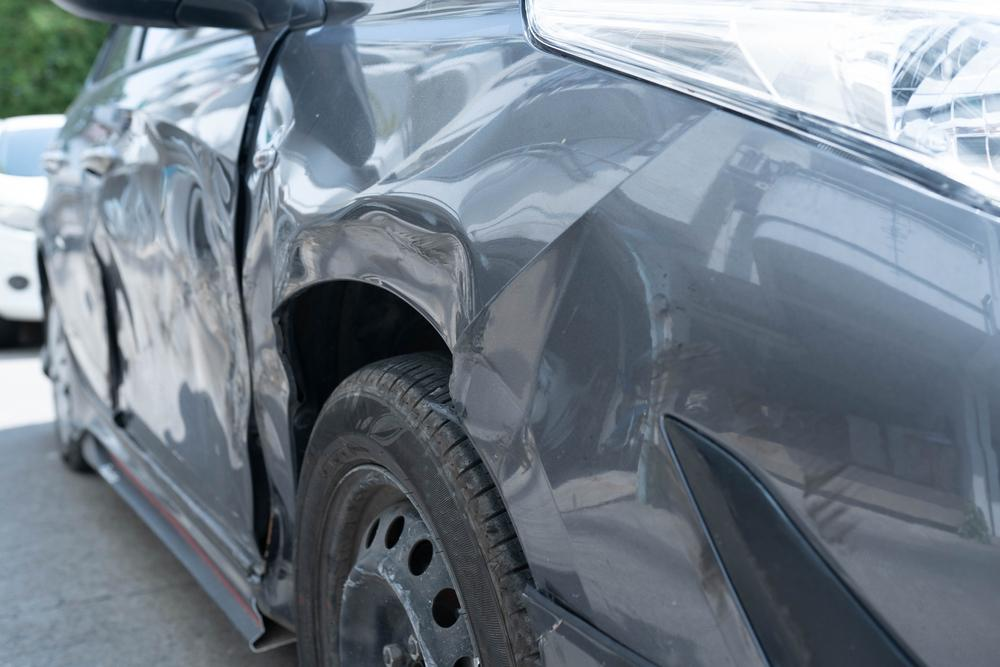dent: (263, 42, 494, 334), (96, 121, 245, 457), (461, 214, 633, 500), (263, 461, 295, 602)
